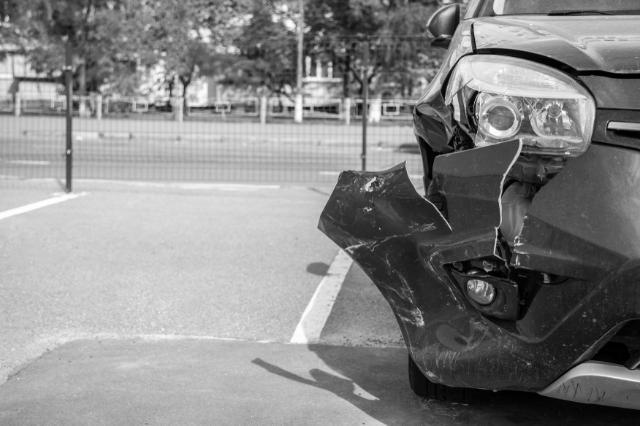Bumper: (314, 140, 640, 411)
Fender: (410, 62, 459, 147)
